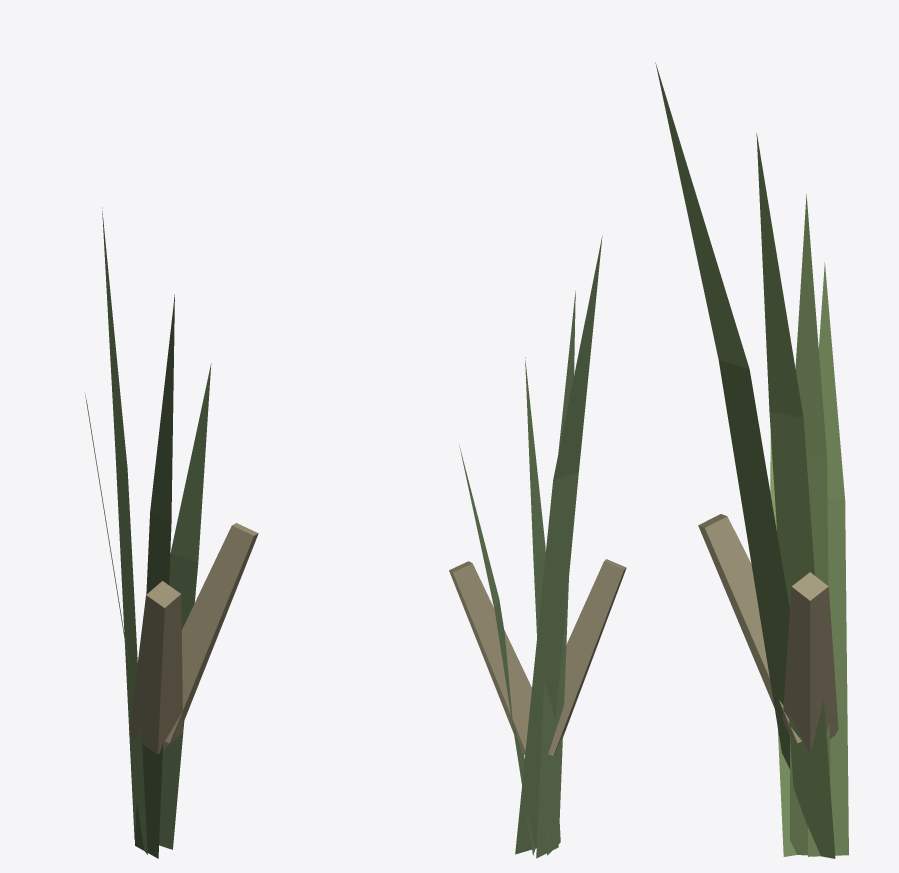
Rendered from shui.changpu@fruiting__bloom.glb.
3 renders of one model, left to right at view 1: azimuth 30°, elevation 25°; view 2: azimuth 150°, elevation 25°; view 3: azimuth 270°, elevation 25°, orthographic. The views are drawn at different scales.
Parts seen in each view (by area): view 1: shui.changpu@fruiting__bloom; view 2: shui.changpu@fruiting__bloom; view 3: shui.changpu@fruiting__bloom.
Boxes of the visible parts, box(x1,y1,x2,y2) form: shui.changpu@fruiting__bloom: box(84, 207, 258, 858); shui.changpu@fruiting__bloom: box(449, 236, 626, 858); shui.changpu@fruiting__bloom: box(655, 62, 848, 858).
Size of the model in its own units: 0.5859 by 1.62 by 0.3823.
